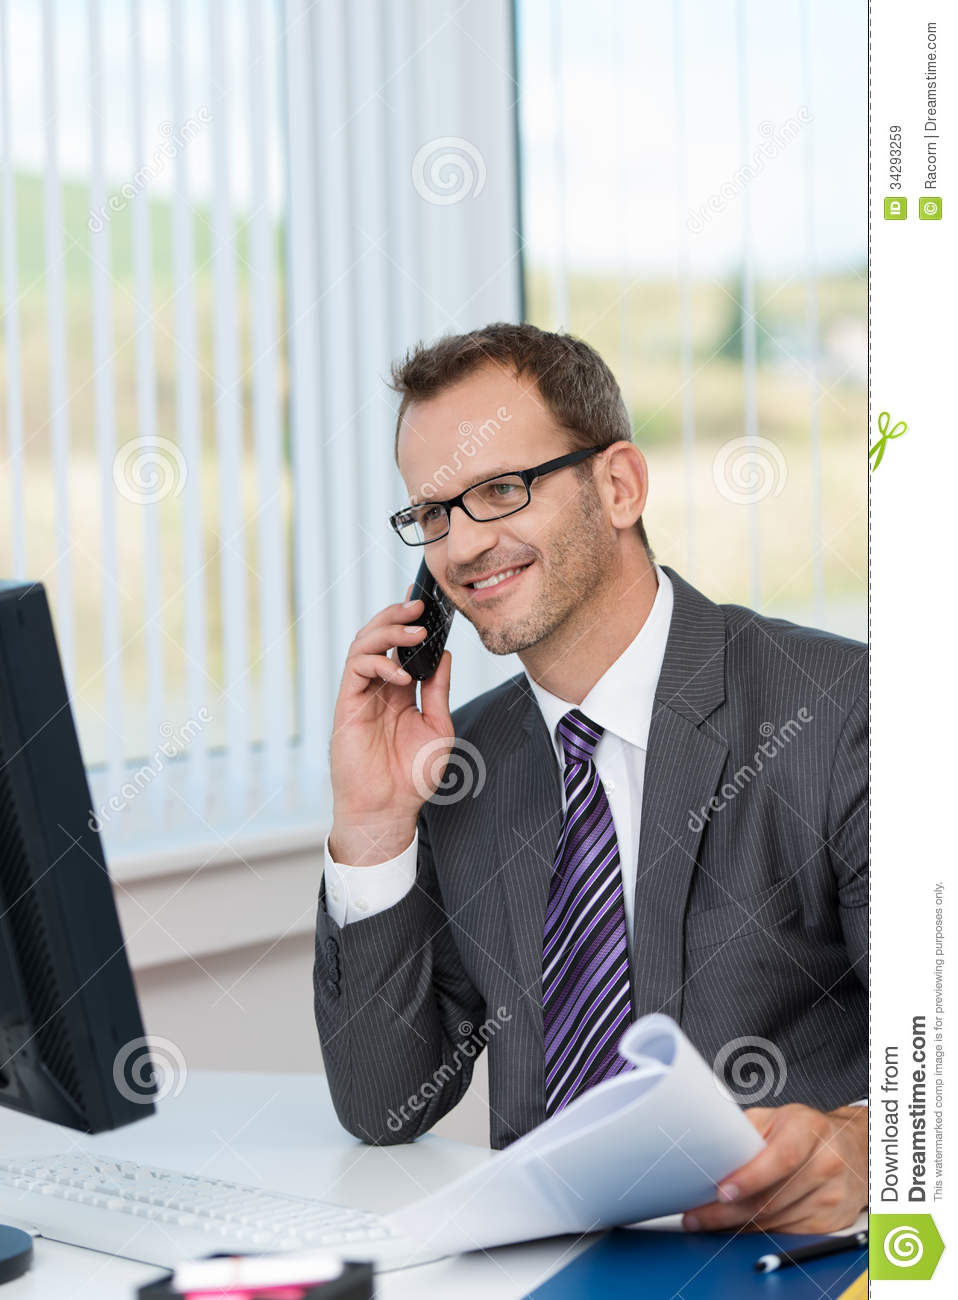phone: (395, 555, 460, 689)
talk: (328, 466, 568, 824)
